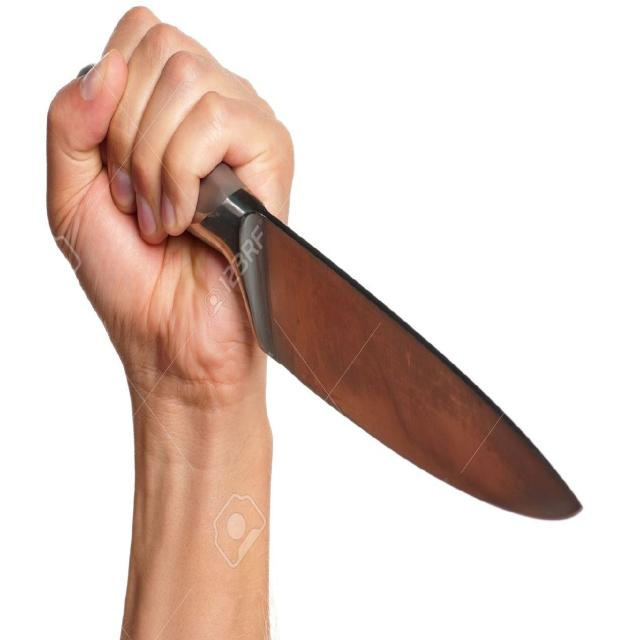knife: (220, 167, 592, 529)
